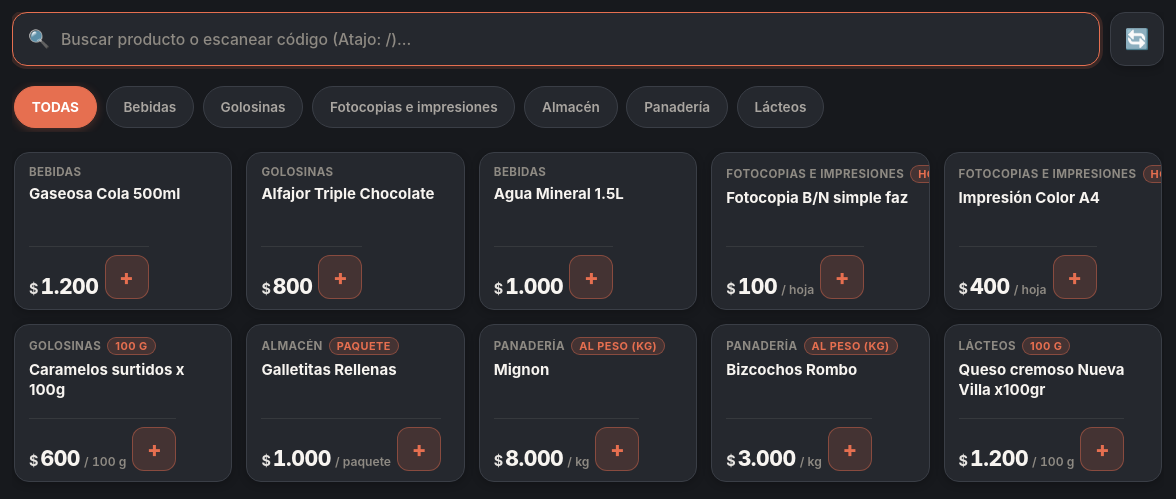
Test: GenaroPOS — Parches M1 (Áreas Táctiles) y M5 (Soporte HID EAN-13) › 3. Captura HID de Lector en Componente ProductCatalog (M5) › filtra productos en el catálogo al escribir parte de su código de barras
Type "7791234567893" into the field with test id "search-input" at [556, 39], box [12,12,1100,66]
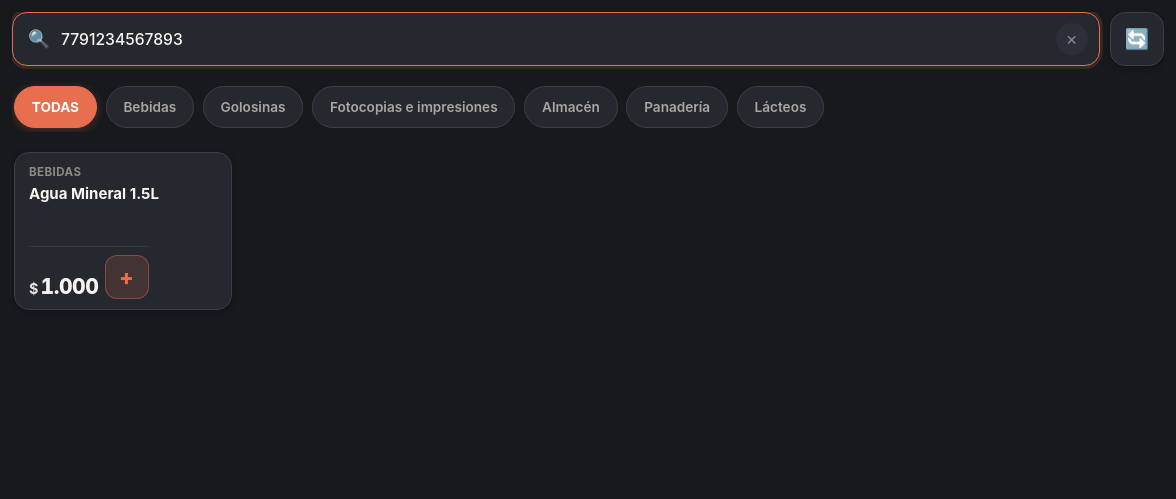
Check: the button with test id "prod-card-3" is shown, box [14,152,232,310]
Check: the button with test id "prod-card-1" is gone
